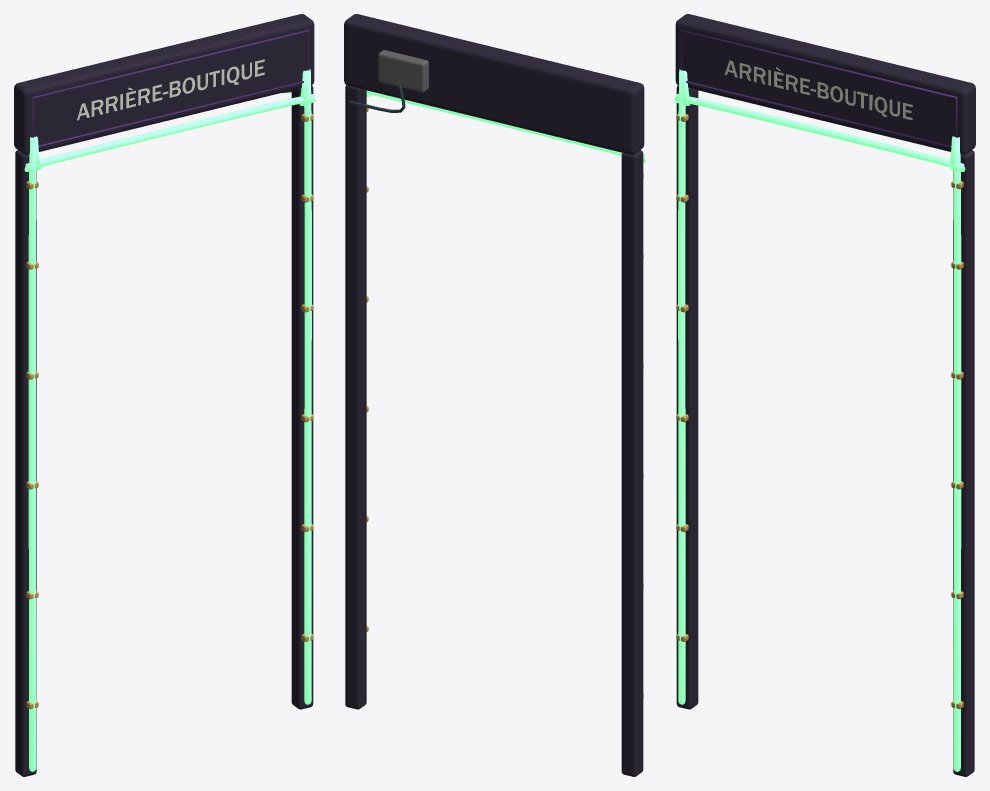
File: backroom_neon_portal.glb
The picture shows the model from 3 angles, left to right: view 1: azimuth 30°, elevation 25°; view 2: azimuth 150°, elevation 25°; view 3: azimuth 330°, elevation 25°; orthographic projection.
Visible parts, largest first — view 1: Header_case, Green_neon_continuous_U, Portal_protected_upright.001, Portal_protected_upright, Flat_backroom_title, Fine_edge; view 2: Header_case, Portal_protected_upright, Portal_protected_upright.001, Rear_transformer, Green_neon_continuous_U; view 3: Header_case, Green_neon_continuous_U, Portal_protected_upright, Portal_protected_upright.001, Flat_backroom_title, Fine_edge.
Part boxes in pixels (bbox=[...]): Header_case: bbox=[14, 14, 314, 154]; Green_neon_continuous_U: bbox=[24, 69, 315, 771]; Portal_protected_upright.001: bbox=[291, 85, 313, 709]; Portal_protected_upright: bbox=[15, 150, 36, 776]; Flat_backroom_title: bbox=[77, 59, 264, 120]; Fine_edge: bbox=[32, 29, 308, 147]; Header_case: bbox=[344, 14, 644, 154]; Portal_protected_upright: bbox=[621, 150, 643, 776]; Portal_protected_upright.001: bbox=[345, 85, 366, 709]; Rear_transformer: bbox=[378, 50, 428, 92]; Green_neon_continuous_U: bbox=[366, 90, 645, 162]; Header_case: bbox=[675, 14, 975, 154]; Green_neon_continuous_U: bbox=[674, 69, 965, 771]; Portal_protected_upright: bbox=[676, 85, 698, 709]; Portal_protected_upright.001: bbox=[953, 150, 974, 776]; Flat_backroom_title: bbox=[724, 60, 912, 120]; Fine_edge: bbox=[680, 29, 957, 147].
Bounding box in the file's own units: 1.25 × 2.82 × 0.1577.
